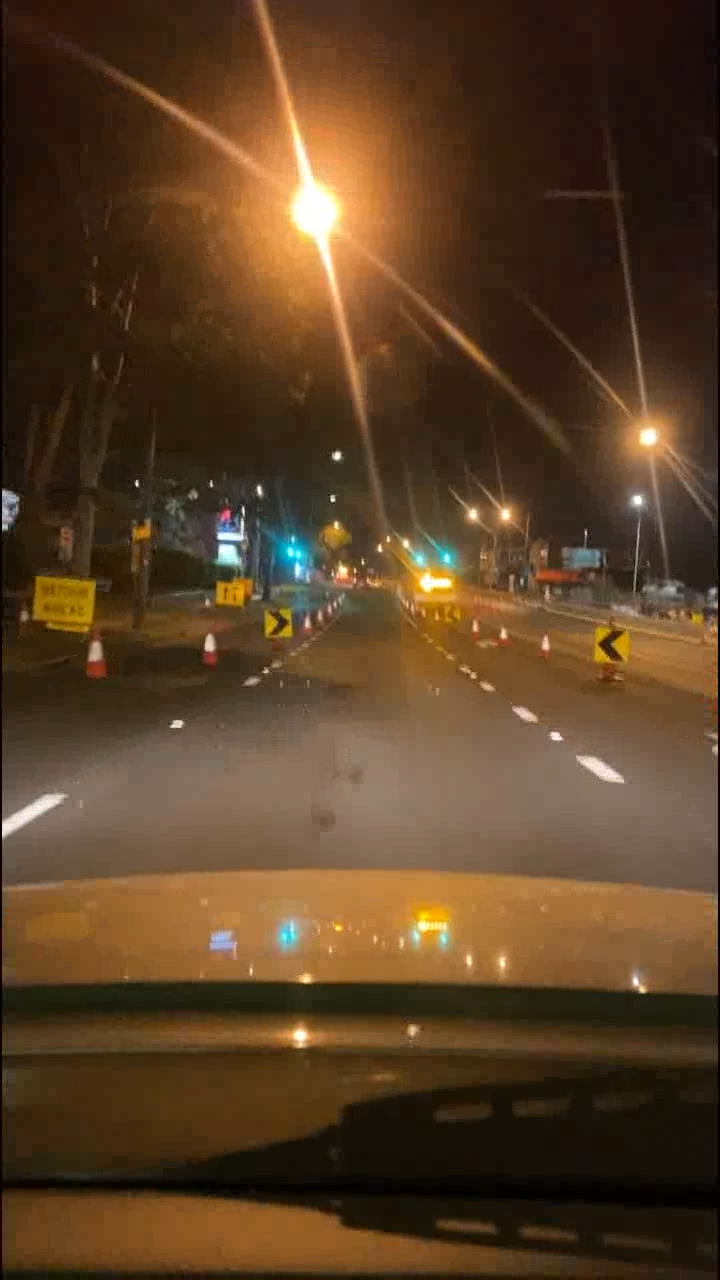road cone: (85, 630, 110, 682), (196, 618, 221, 670), (531, 618, 556, 670), (488, 606, 513, 658), (298, 595, 323, 647), (332, 587, 357, 639), (460, 613, 483, 654)
road works sign board: (33, 575, 93, 632), (593, 619, 629, 677), (262, 607, 289, 640), (210, 582, 250, 604)
truck: (404, 567, 454, 627)
